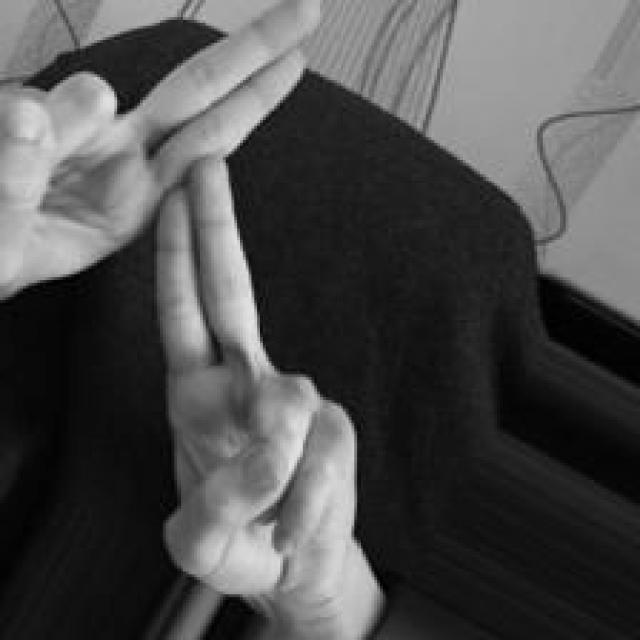K: (0, 0, 411, 640)
